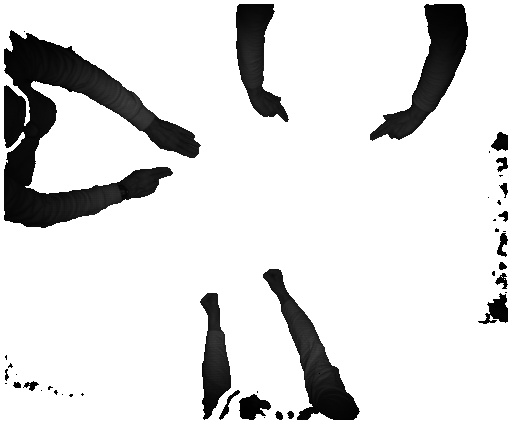fist: (256, 264, 289, 292), (200, 288, 223, 317)
hand: (151, 112, 203, 162), (123, 166, 175, 207), (368, 111, 422, 143), (252, 89, 295, 127)
